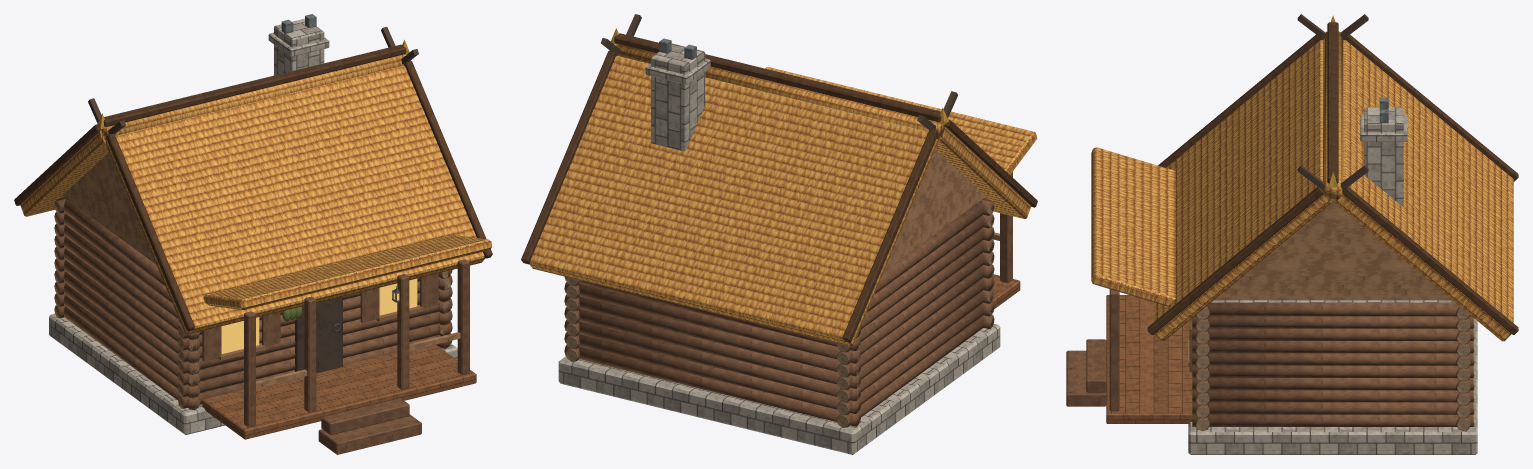
Rendered from farmhouse_log.glb.
3 views of the same model, side by side, from view 1: azimuth 30°, elevation 25°; view 2: azimuth 150°, elevation 25°; view 3: azimuth 270°, elevation 25° (orthographic). The views are drawn at different scales.
Parts seen in each view (by area): view 1: farmhouse_log_roof, farmhouse_log_walls, farmhouse_log_details; view 2: farmhouse_log_roof, farmhouse_log_walls; view 3: farmhouse_log_walls, farmhouse_log_roof.
Part boxes in pixels (x1,y1,x2,y2): farmhouse_log_roof: (14,27,492,334); farmhouse_log_walls: (49,14,476,454); farmhouse_log_details: (202,273,438,373); farmhouse_log_roof: (521,14,1037,346); farmhouse_log_walls: (558,38,1020,454); farmhouse_log_walls: (1066,97,1477,454); farmhouse_log_roof: (1091,14,1518,341).
Size of what is drawn, in the model's own units: 6.66 by 6.14 by 7.97.
14 materials, 14 textured.
